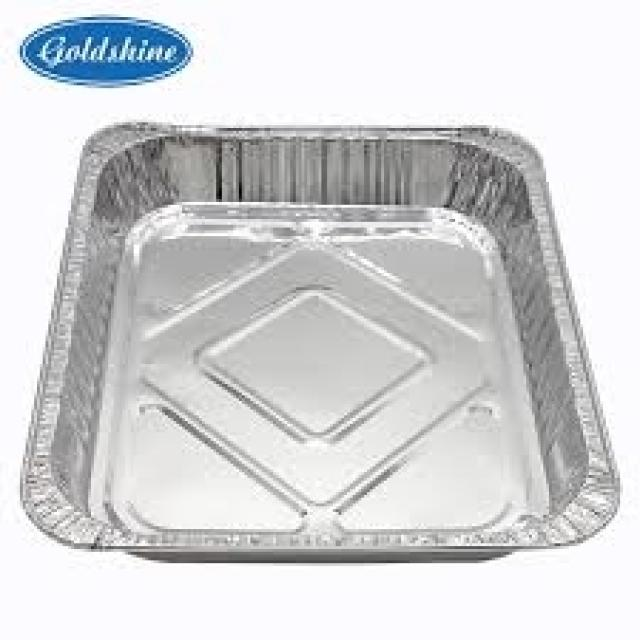kim_loai: (17, 117, 617, 569)
